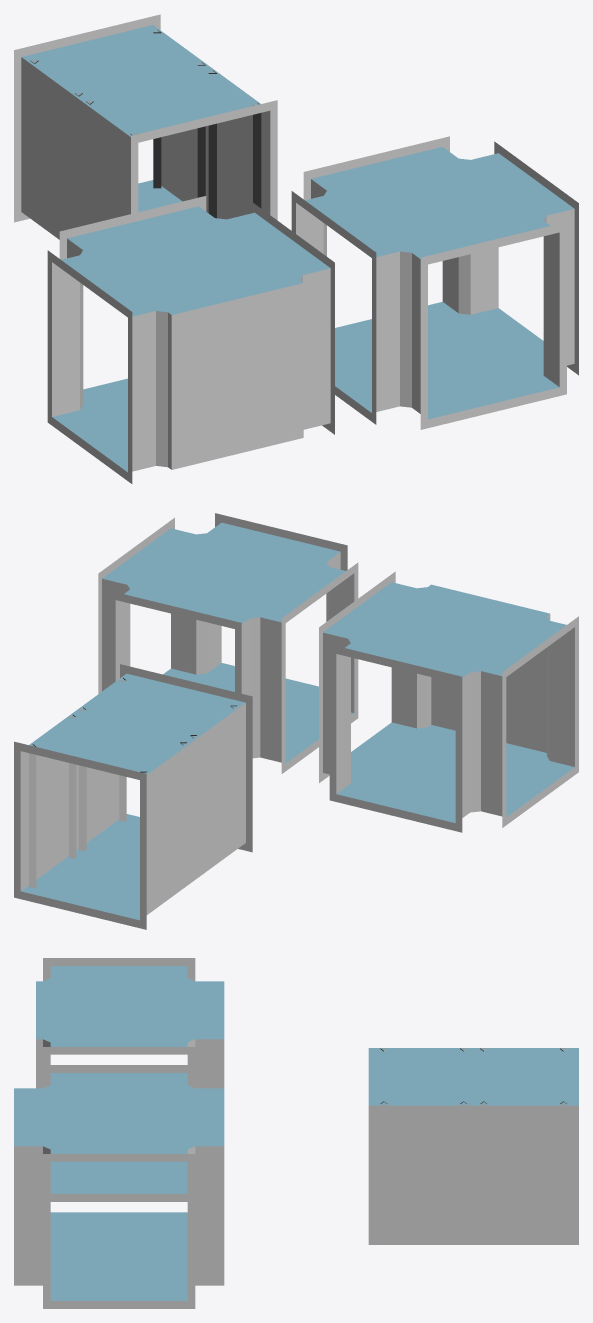
Rendered from Low-Poly Laboratory_Iso2.fbx.
3 views of the same model, one above another, from view 1: azimuth 30°, elevation 25°; view 2: azimuth 150°, elevation 25°; view 3: azimuth 270°, elevation 25° (orthographic). The views are drawn at different scales.
Parts seen in each view (by area): view 1: Corridor_3_Way, Corridor_2_Way, Corridor; view 2: Corridor_3_Way, Corridor, Corridor_2_Way; view 3: Corridor_2_Way, Corridor, Corridor_3_Way.
Part boxes in pixels (x1=…): Corridor_3_Way: x1=47, y1=196, x2=334, y2=483; Corridor_2_Way: x1=291, y1=136, x2=578, y2=429; Corridor: x1=14, y1=14, x2=277, y2=239; Corridor_3_Way: x1=319, y1=571, x2=578, y2=832; Corridor: x1=14, y1=664, x2=252, y2=929; Corridor_2_Way: x1=98, y1=513, x2=358, y2=773; Corridor_2_Way: x1=14, y1=1065, x2=224, y2=1308; Corridor: x1=368, y1=1048, x2=578, y2=1244; Corridor_3_Way: x1=36, y1=958, x2=224, y2=1201.
Size of the model in its own units: 881 by 325 by 1074.
